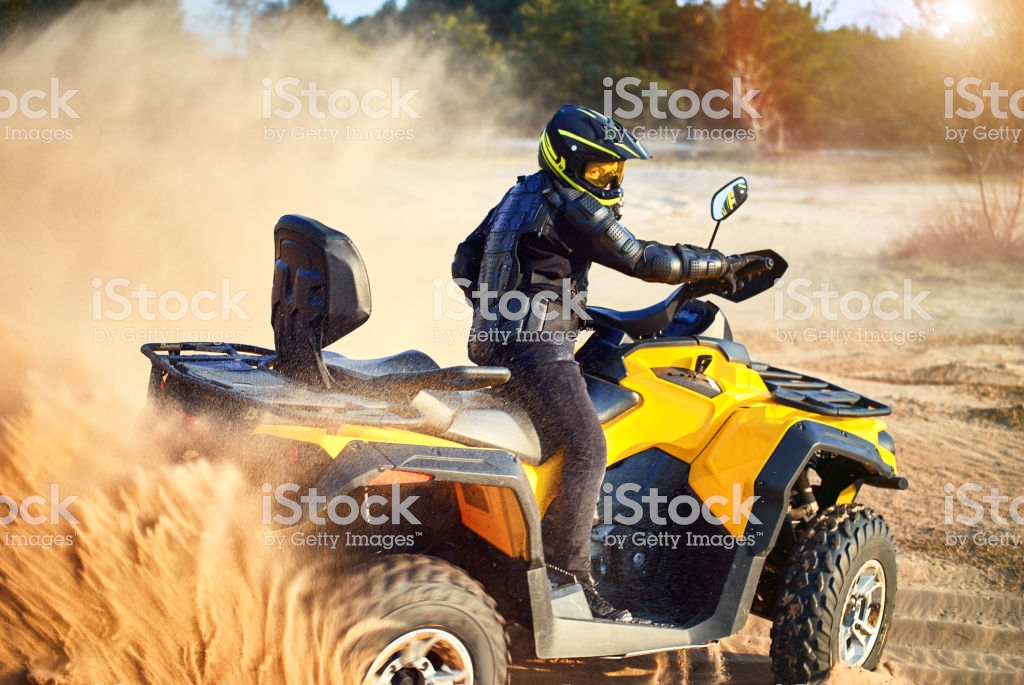helmet: (537, 85, 649, 218)
